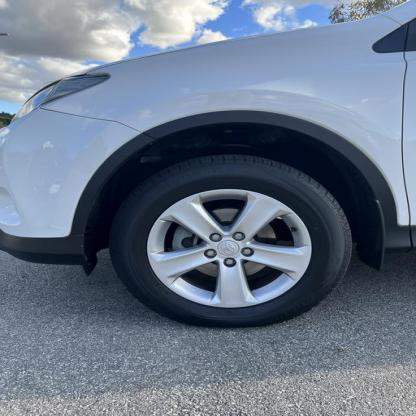Tire: (109, 153, 355, 329)
